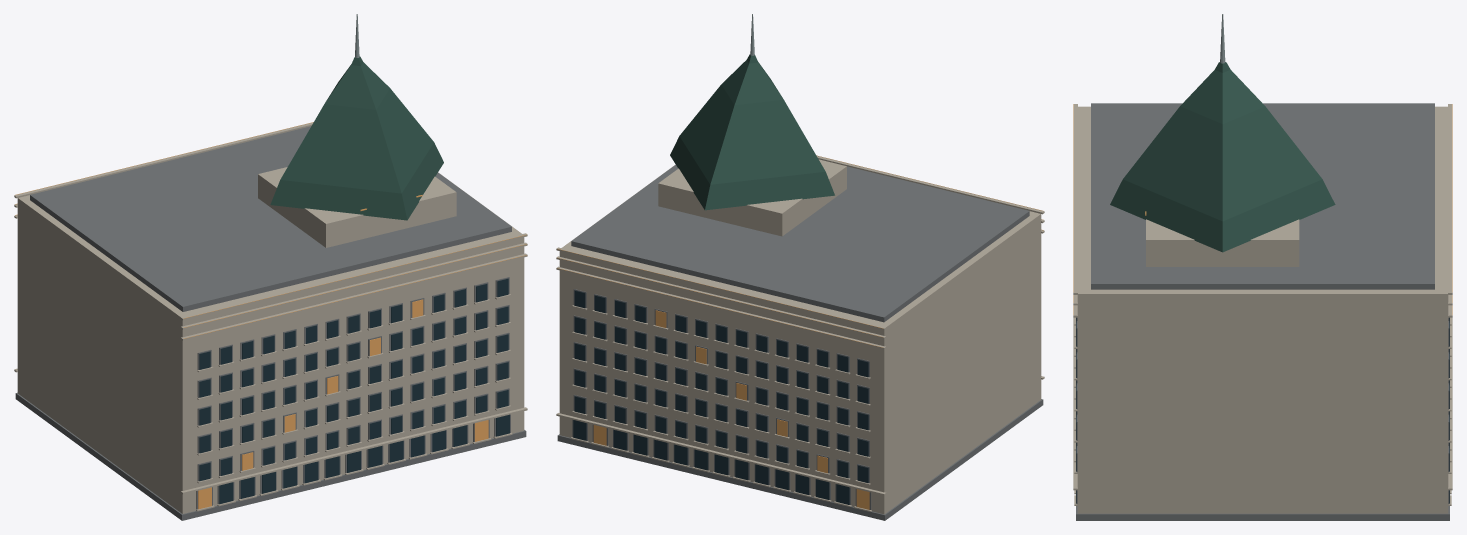
Rendered from peace_far.glb.
3 renders of one model, left to right at view 1: azimuth 30°, elevation 25°; view 2: azimuth 150°, elevation 25°; view 3: azimuth 270°, elevation 25°, orthographic. The views are drawn at different scales.
Parts seen in each view (by area): view 1: Limestone, Plinth, GlassDark, Copper, NightWarm; view 2: Limestone, Plinth, GlassDark, Copper, NightWarm; view 3: Limestone, Plinth, Copper.
Part boxes in pixels (x1=…): Limestone: x1=14, y1=122, x2=527, y2=513; Plinth: x1=15, y1=126, x2=526, y2=520; GlassDark: x1=199, y1=278, x2=509, y2=504; Copper: x1=270, y1=56, x2=443, y2=220; NightWarm: x1=15, y1=122, x2=526, y2=509; Limestone: x1=556, y1=156, x2=1044, y2=514; Plinth: x1=557, y1=164, x2=1043, y2=520; GlassDark: x1=573, y1=290, x2=868, y2=504; Copper: x1=670, y1=54, x2=834, y2=210; NightWarm: x1=557, y1=155, x2=1043, y2=509; Limestone: x1=1073, y1=104, x2=1452, y2=513; Plinth: x1=1076, y1=103, x2=1449, y2=520; Copper: x1=1110, y1=62, x2=1335, y2=252.
Size of the model in its own units: 55.55 by 61.6 by 47.09.
